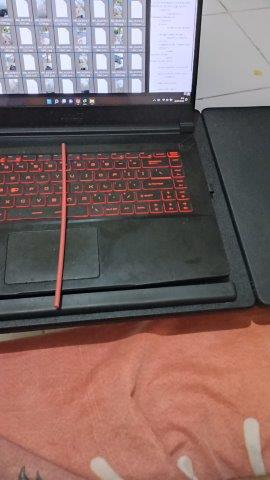sedotan: (54, 144, 67, 306)
